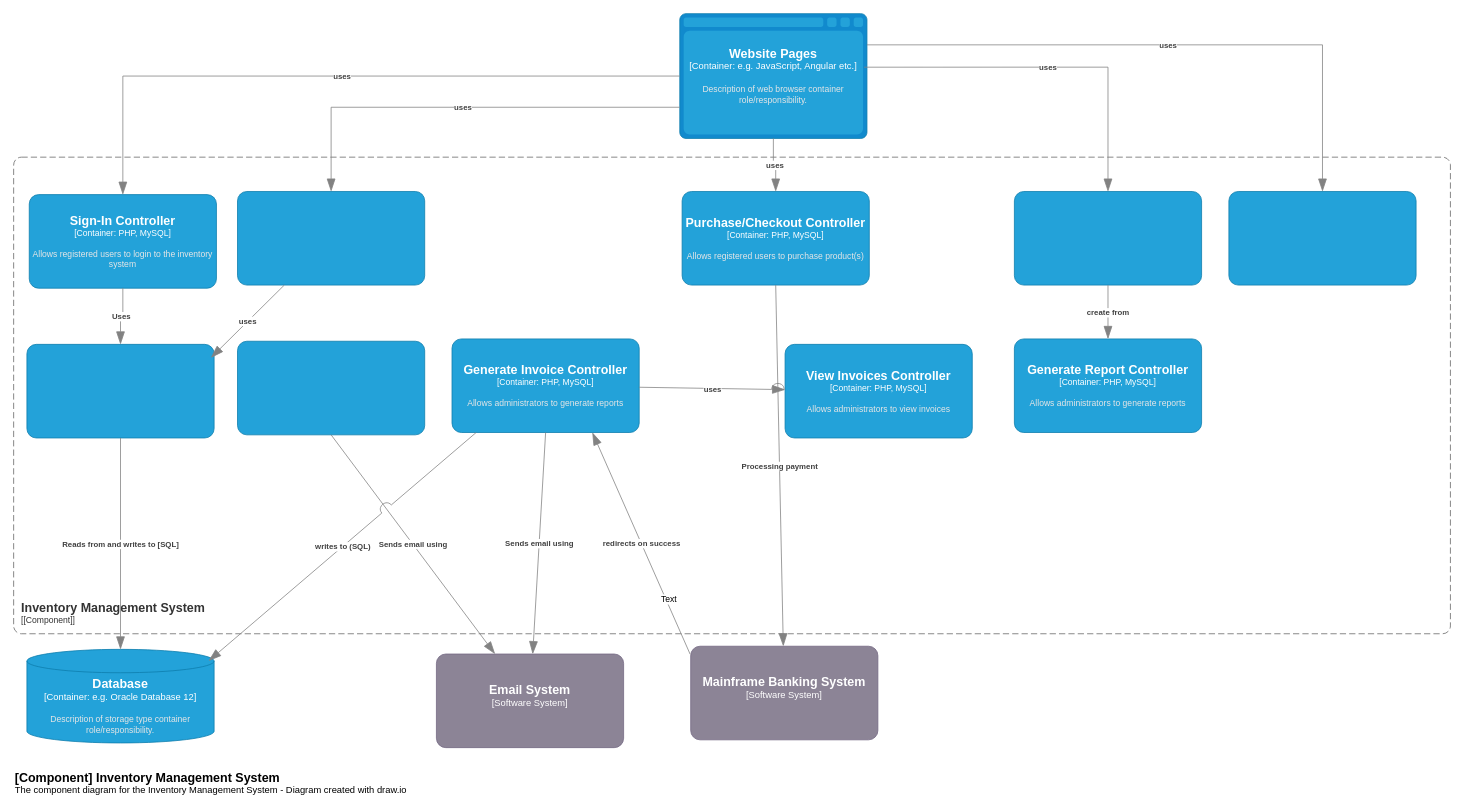
Image size: 1464x810. Some labels were removed from this diagram. Here are the shapes that lost their labels. From the top down, the box of each, then its label:
(237, 191, 425, 285): Reset-Password Controller [Container: PHP, MySQL]
(1014, 191, 1202, 285): View Inventory Controller [Container: PHP, MySQL]
(1228, 191, 1416, 285): View Analytics Controller [Container: PHP, MySQL]
(26, 344, 214, 438): Security Component [Container: PHP, MySQL]
(237, 340, 425, 435): Email Controller [Container: PHP]
